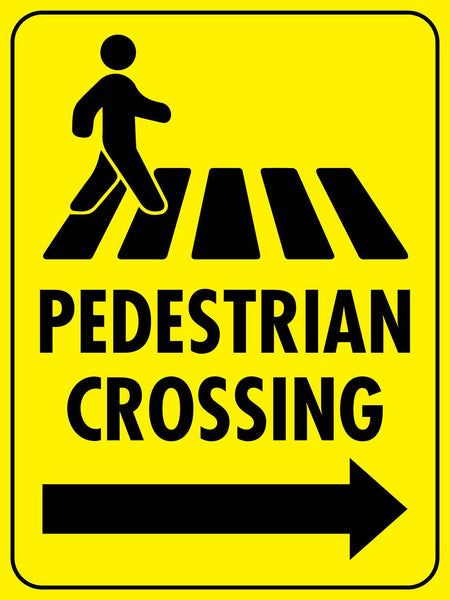CrossSign: (43, 30, 444, 598)
